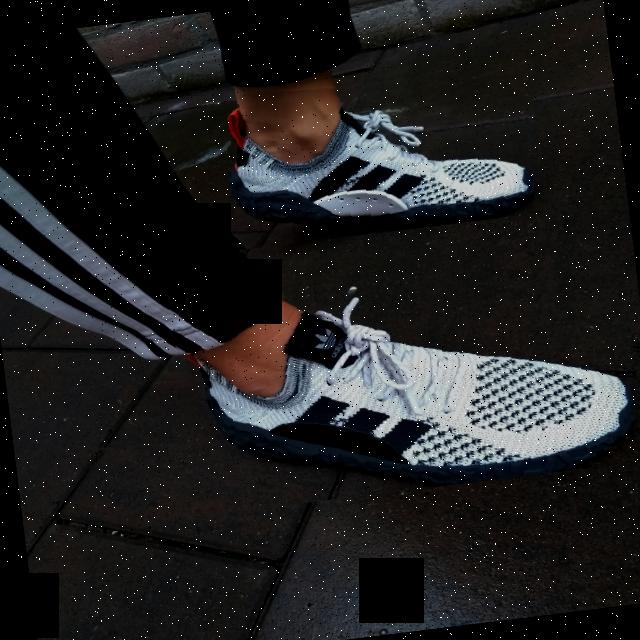shoe: (166, 245, 640, 516), (202, 57, 547, 252)
